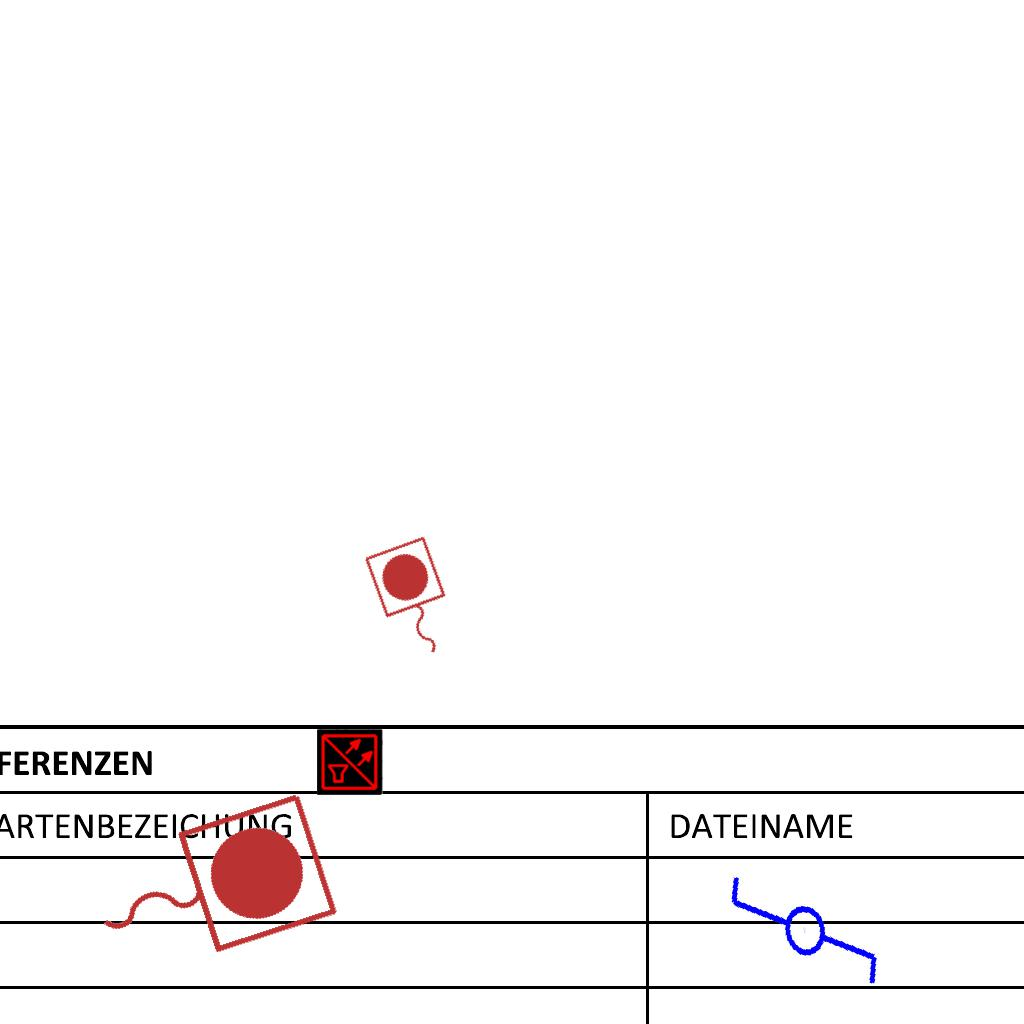OKW_Multisensormelder_(Kombination_optischer_Rauch-Kahlenmonoxid_Waerme-Melder): (317, 729, 383, 795)
Wechselschalter: (718, 848, 891, 1024)
Zugtaster: (70, 780, 348, 994), (358, 531, 468, 671)
